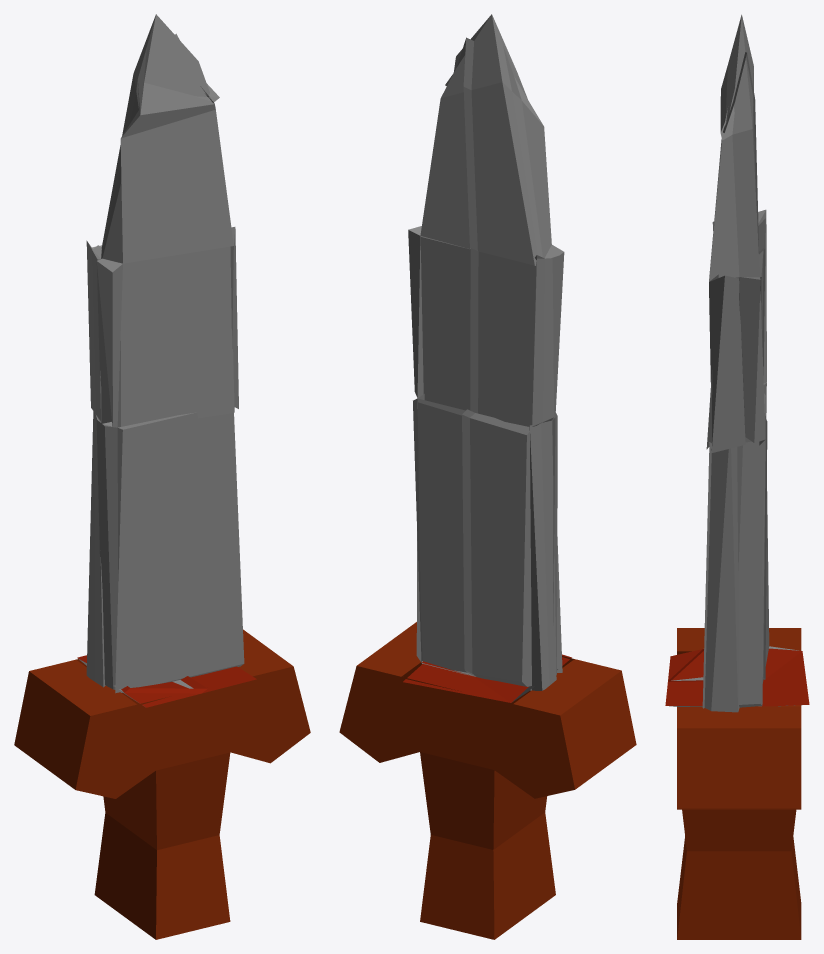
File: Sowrd.fbx
3 views of the same model, side by side, from view 1: azimuth 30°, elevation 25°; view 2: azimuth 150°, elevation 25°; view 3: azimuth 270°, elevation 25° (orthographic).
Parts seen in each view (by area): view 1: Cube.002, Cube.001, Cube.004; view 2: Cube.002, Cube.001, Cube.004; view 3: Cube.002, Cube.001, Cube.004.
Part boxes in pixels (x1,y1,x2,y2): Cube.002: (77,14,244,702); Cube.001: (14,629,310,939); Cube.004: (77,655,256,707); Cube.002: (408,14,564,702); Cube.001: (339,622,636,939); Cube.004: (403,654,571,702); Cube.002: (669,14,801,712); Cube.001: (677,628,801,939); Cube.004: (665,648,809,706).
Bounding box in the file's own units: 177 × 650 × 92.8.
